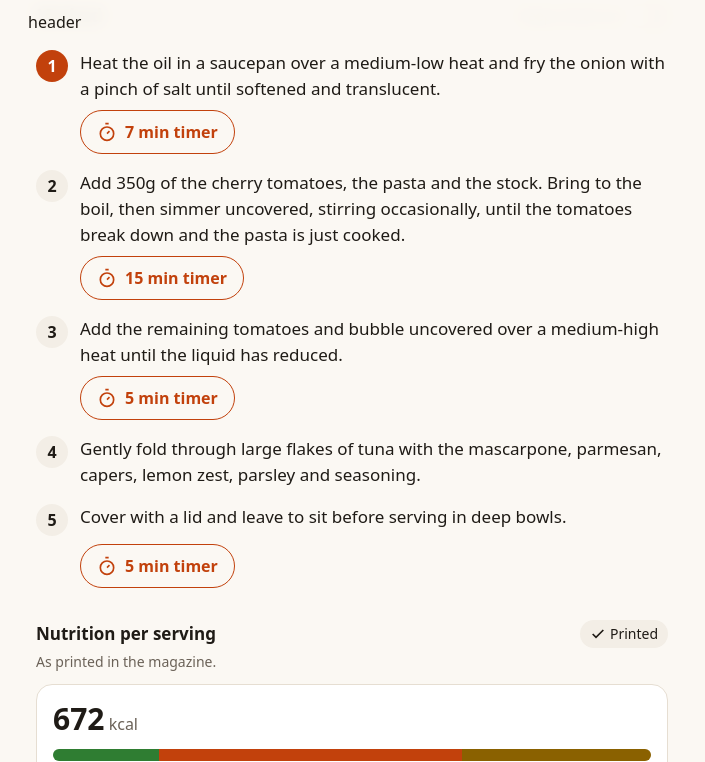
Test case: step timers (recipe design D, PP-178) › counts down, pauses, resumes and stops
(page scrolled)
Click the 1st button "5 min timer" at x=157, y=398, box [80,376,235,420]
Wait 61000 ms
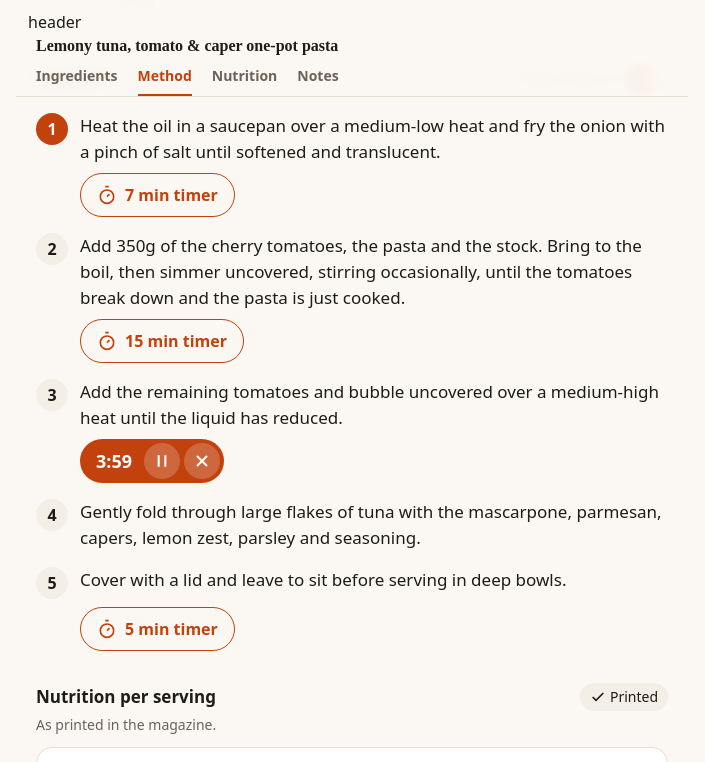
Click the button named "Pause" at x=162, y=461, box [144,443,180,479]
Wait 120000 ms
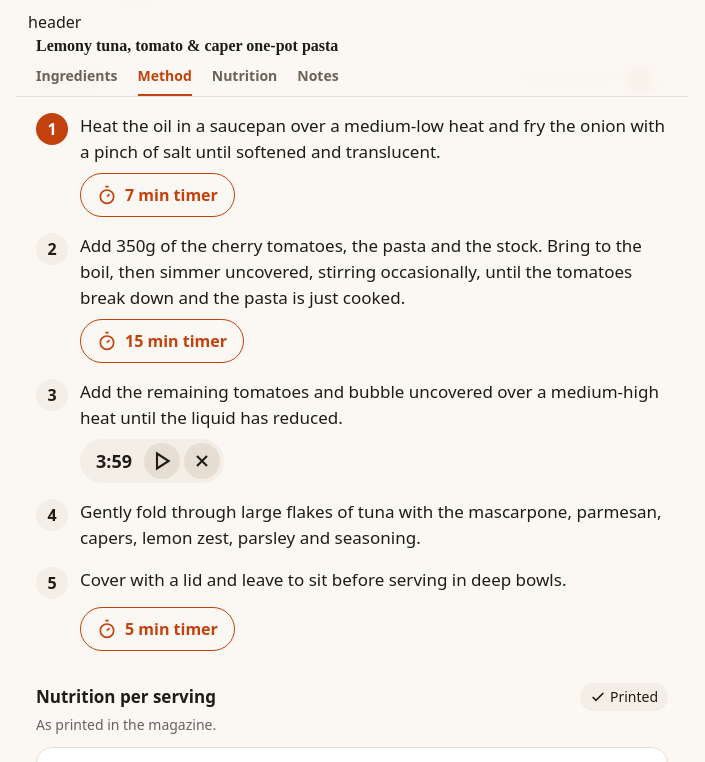
Click the button named "Resume" at x=162, y=461, box [144,443,180,479]
Wait 59000 ms
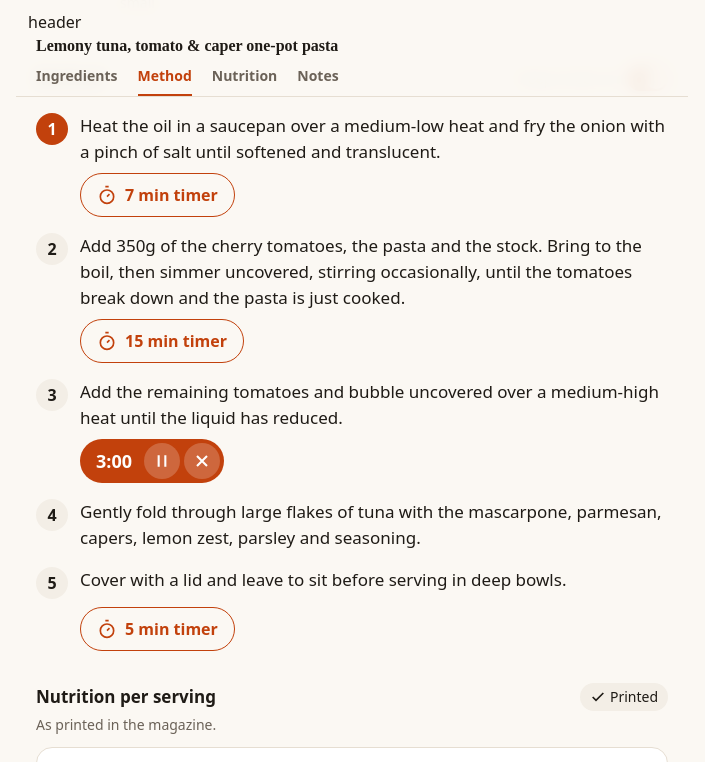
Click the button named "Stop" at x=202, y=461, box [184,443,220,479]
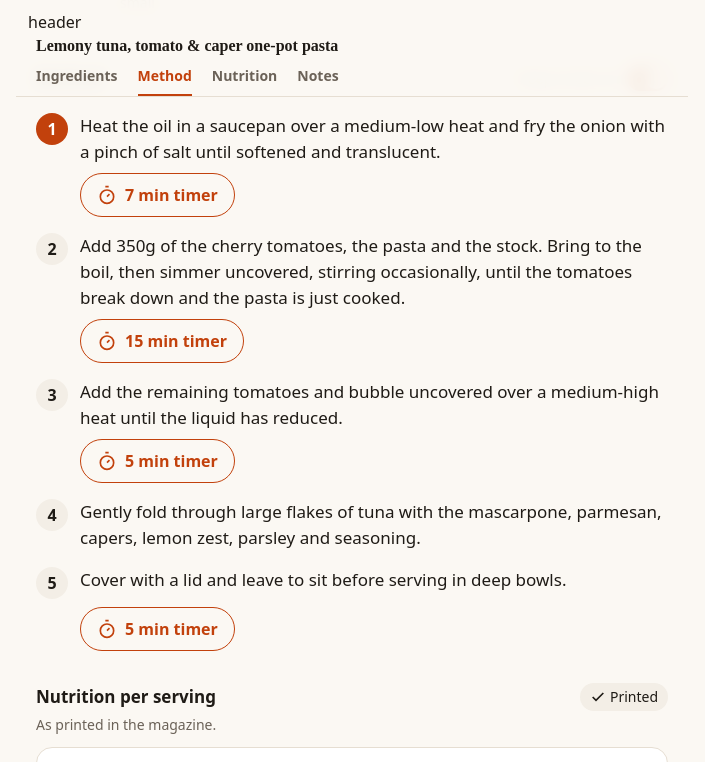
Result: the 1st button "5 min timer" is shown at [80,439,235,483]
